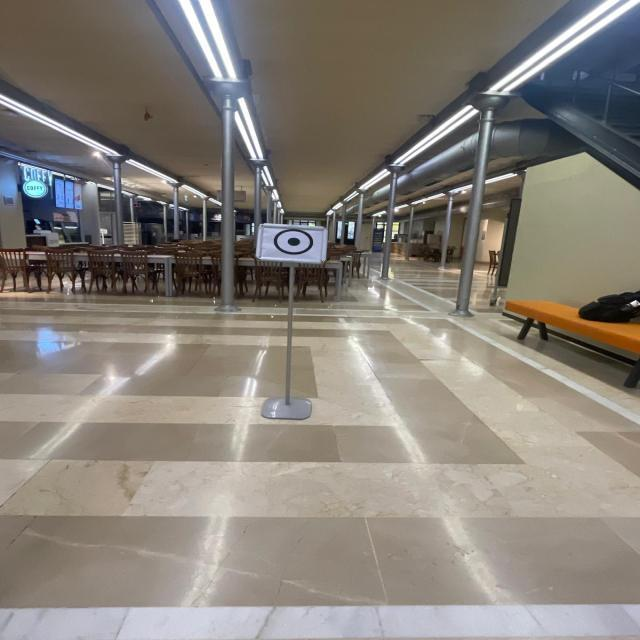Target: (246, 215, 338, 268)
inner: (282, 232, 304, 250)
